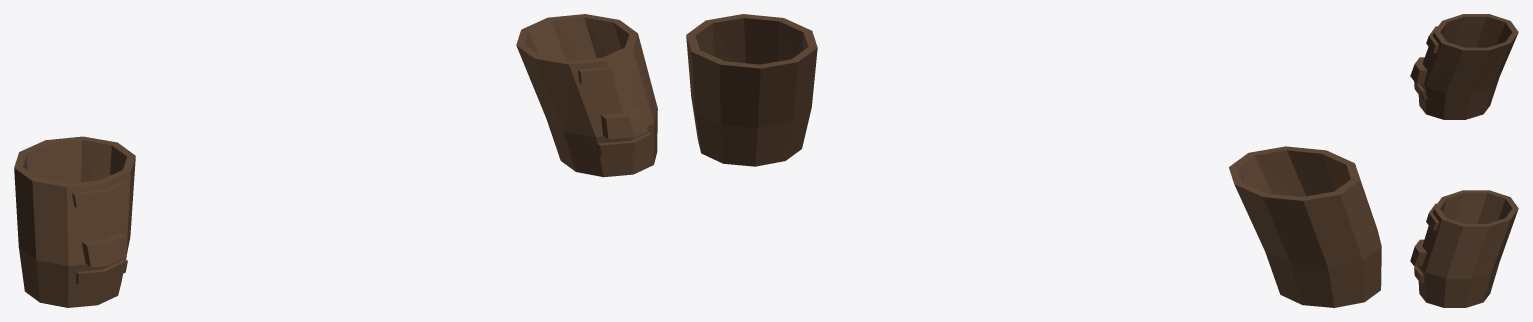
Rendered from leather_wrists-male-thickHide.glb.
The picture shows the model from 3 angles, left to right: view 1: azimuth 30°, elevation 25°; view 2: azimuth 150°, elevation 25°; view 3: azimuth 270°, elevation 25°; orthographic projection. The views are drawn at different scales.
Visible parts, largest first — view 1: leather wrist guard -1, leather wrist guard 1, Heavy hide binding leather wrist guard 1, Heavy hide binding leather wrist guard -1, Bracer rolled upper lip 1, Bracer rolled upper lip -1, Bracer lower fastening strap 1, Bracer lower fastening strap -1; view 2: leather wrist guard -1, leather wrist guard 1; view 3: leather wrist guard 1, leather wrist guard -1, Heavy hide binding leather wrist guard -1, Heavy hide binding leather wrist guard 1, Bracer rolled upper lip 1, Bracer rolled upper lip -1, Bracer lower fastening strap -1, Bracer lower fastening strap 1.
Part boxes in pixels (x1=…): leather wrist guard -1: x1=14, y1=136, x2=135, y2=307; leather wrist guard 1: x1=516, y1=14, x2=657, y2=177; Heavy hide binding leather wrist guard 1: x1=600, y1=106, x2=647, y2=139; Heavy hide binding leather wrist guard -1: x1=82, y1=232, x2=126, y2=267; Bracer rolled upper lip 1: x1=578, y1=57, x2=635, y2=84; Bracer rolled upper lip -1: x1=72, y1=180, x2=129, y2=207; Bracer lower fastening strap 1: x1=595, y1=132, x2=651, y2=156; Bracer lower fastening strap -1: x1=76, y1=259, x2=127, y2=285; leather wrist guard -1: x1=1229, y1=146, x2=1381, y2=307; leather wrist guard 1: x1=686, y1=14, x2=817, y2=166; leather wrist guard 1: x1=1418, y1=190, x2=1518, y2=307; leather wrist guard -1: x1=1418, y1=14, x2=1518, y2=119; Heavy hide binding leather wrist guard -1: x1=1410, y1=57, x2=1427, y2=84; Heavy hide binding leather wrist guard 1: x1=1410, y1=239, x2=1426, y2=266; Bracer rolled upper lip 1: x1=1426, y1=203, x2=1439, y2=230; Bracer rolled upper lip -1: x1=1426, y1=26, x2=1438, y2=53; Bracer lower fastening strap -1: x1=1414, y1=81, x2=1427, y2=99; Bracer lower fastening strap 1: x1=1414, y1=266, x2=1423, y2=282.
Size of the model in its own units: 3.71 by 0.63 by 0.7802.
